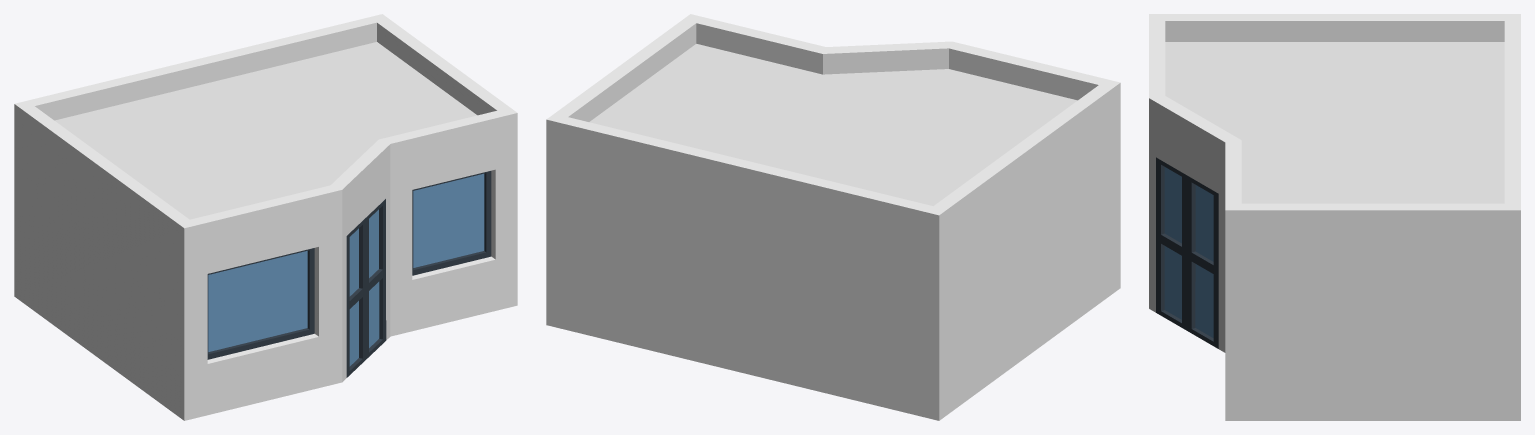
The model's file is commercial_house_06.fbx.
3 renders of one model, left to right at view 1: azimuth 30°, elevation 25°; view 2: azimuth 150°, elevation 25°; view 3: azimuth 270°, elevation 25°, orthographic. The views are drawn at different scales.
Visible parts, largest first — view 1: Box054; view 2: Box054; view 3: Box054.
Boxes of the visible parts, x1=… form: Box054: x1=14, y1=14, x2=517, y2=420; Box054: x1=546, y1=14, x2=1120, y2=420; Box054: x1=1149, y1=14, x2=1520, y2=420.
Size of the model in its own units: 1000 by 500 by 800.
1 material, 1 textured.
